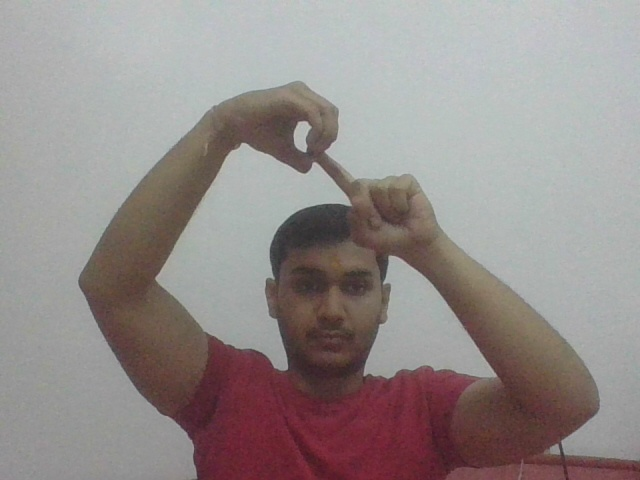Q: (255, 81, 379, 206)
